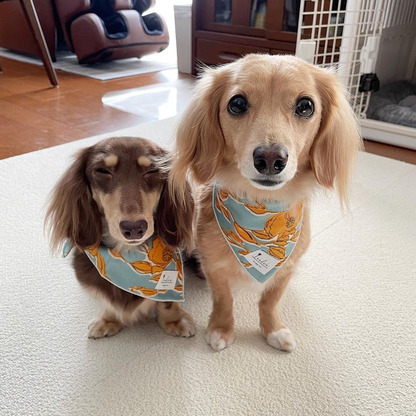dachshund: (166, 56, 373, 364), (50, 121, 188, 347)
